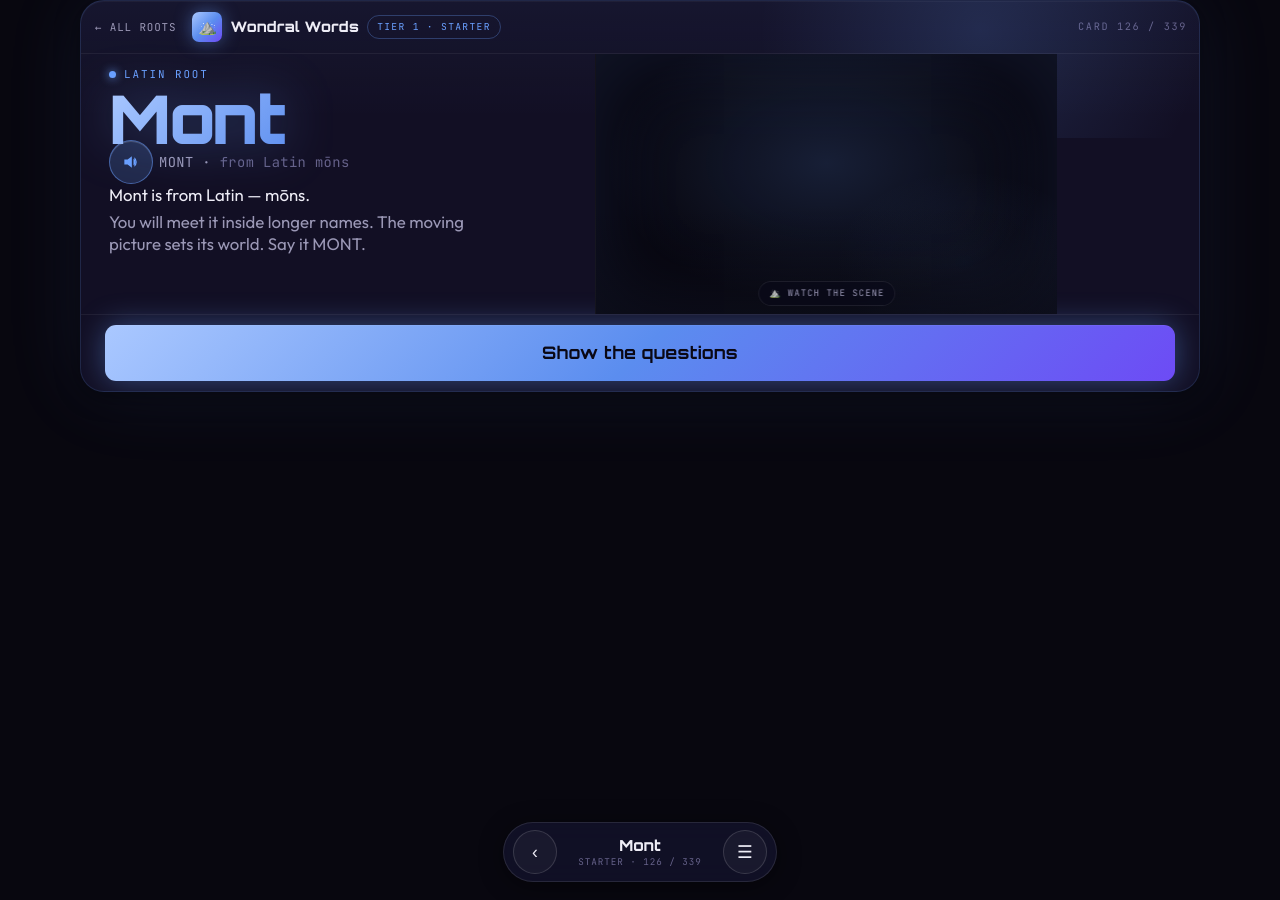
Test: what the kid sees on a new card › shows a new Mont intro before any question
Click the button "Show the questions".
click(640, 353)  # box [105,325,1175,381]
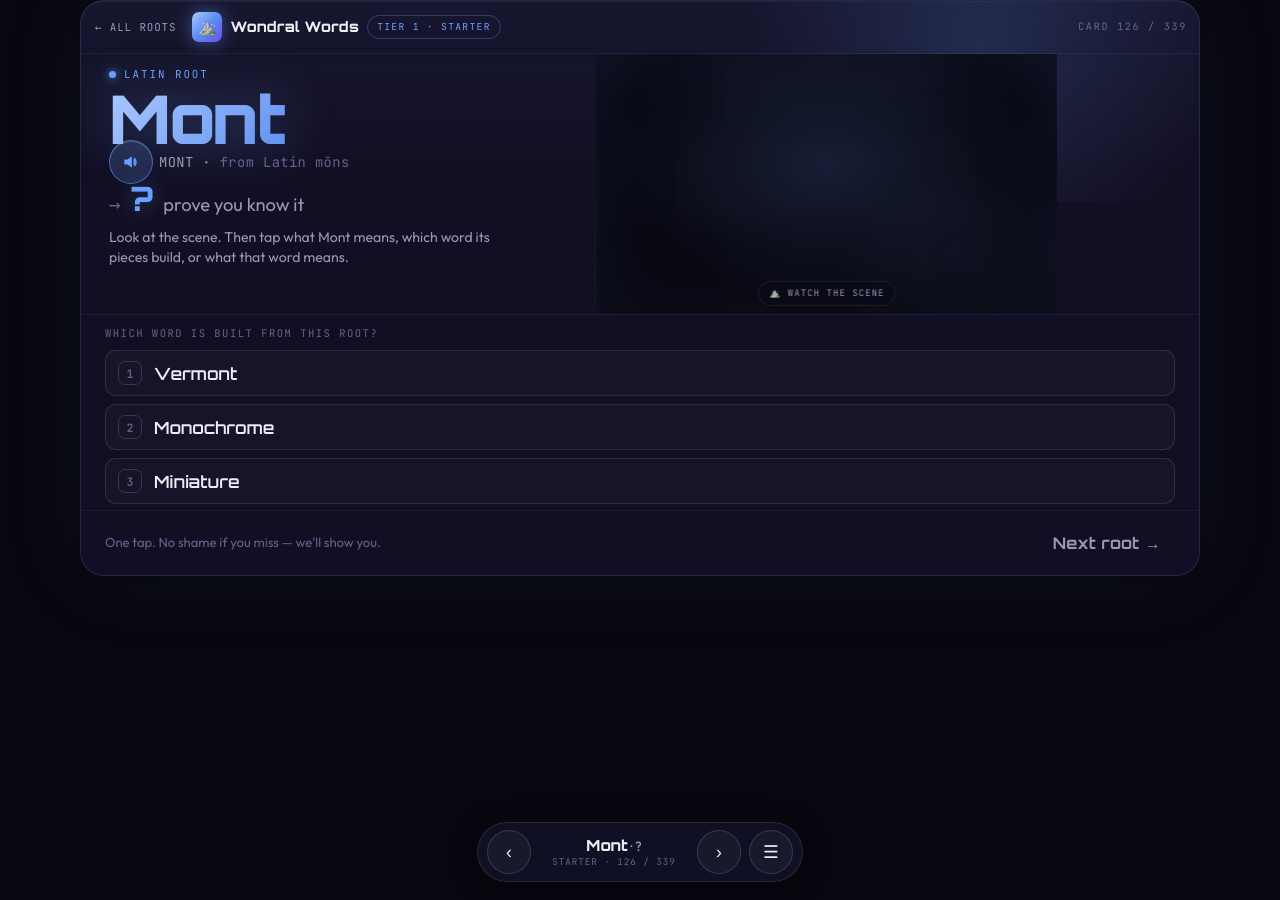
Expected: the text "Mont means mountain." is not shown
Now the button with class "ww-recall-opt" showing "1 Vermont" is shown
Now the text "Show the questions" is gone
Click the button with class "ww-recall-opt" showing "1 Vermont".
click(196, 373)  # box [105,350,1175,396]
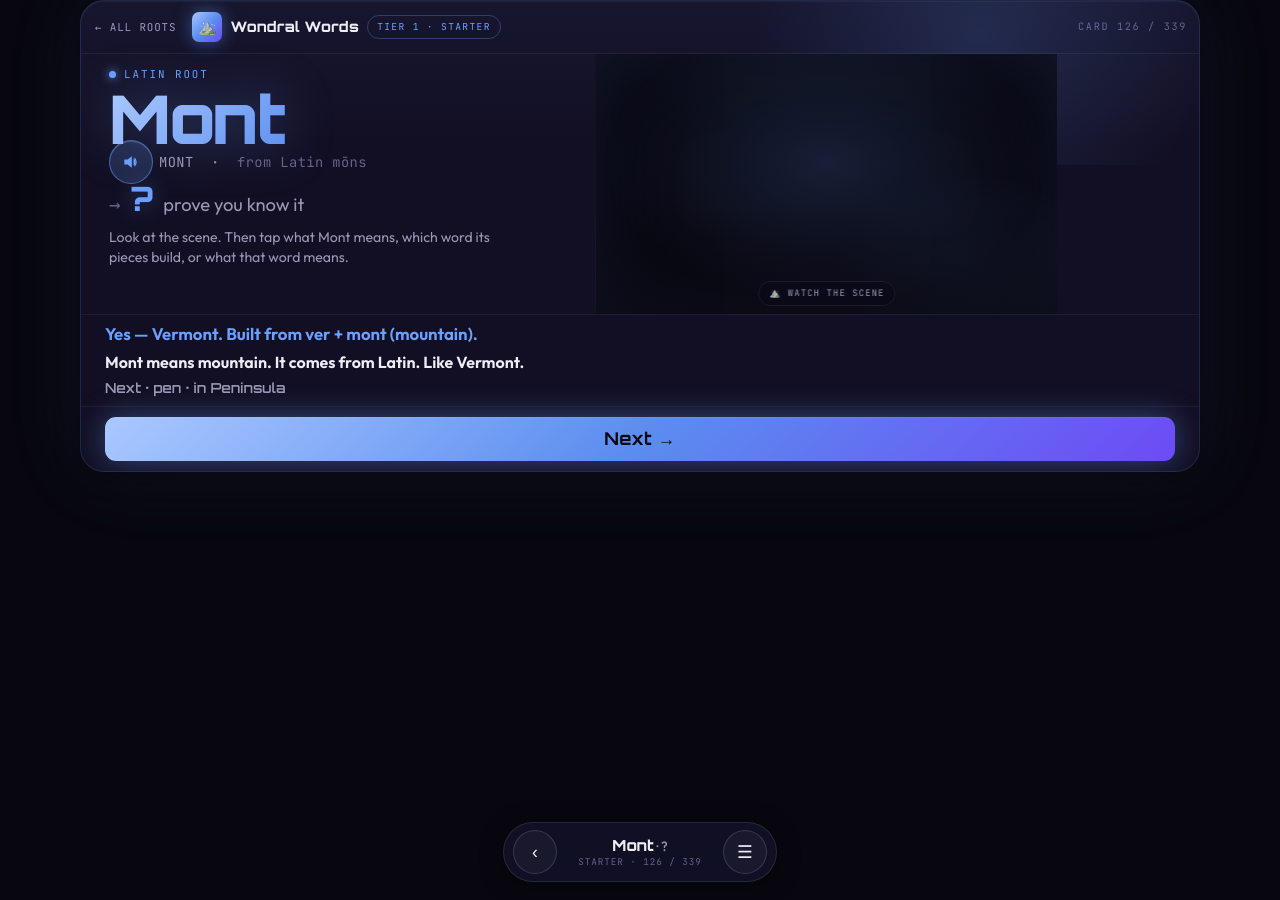
Expected: the text "Latin" is shown, [124,67,209,81]
Now the text "Yes — Vermont. Built from ver + mont (mountain)." is shown, box [105,323,478,344]
Now the text "Mont means mountain." is shown, box [105,352,524,372]
